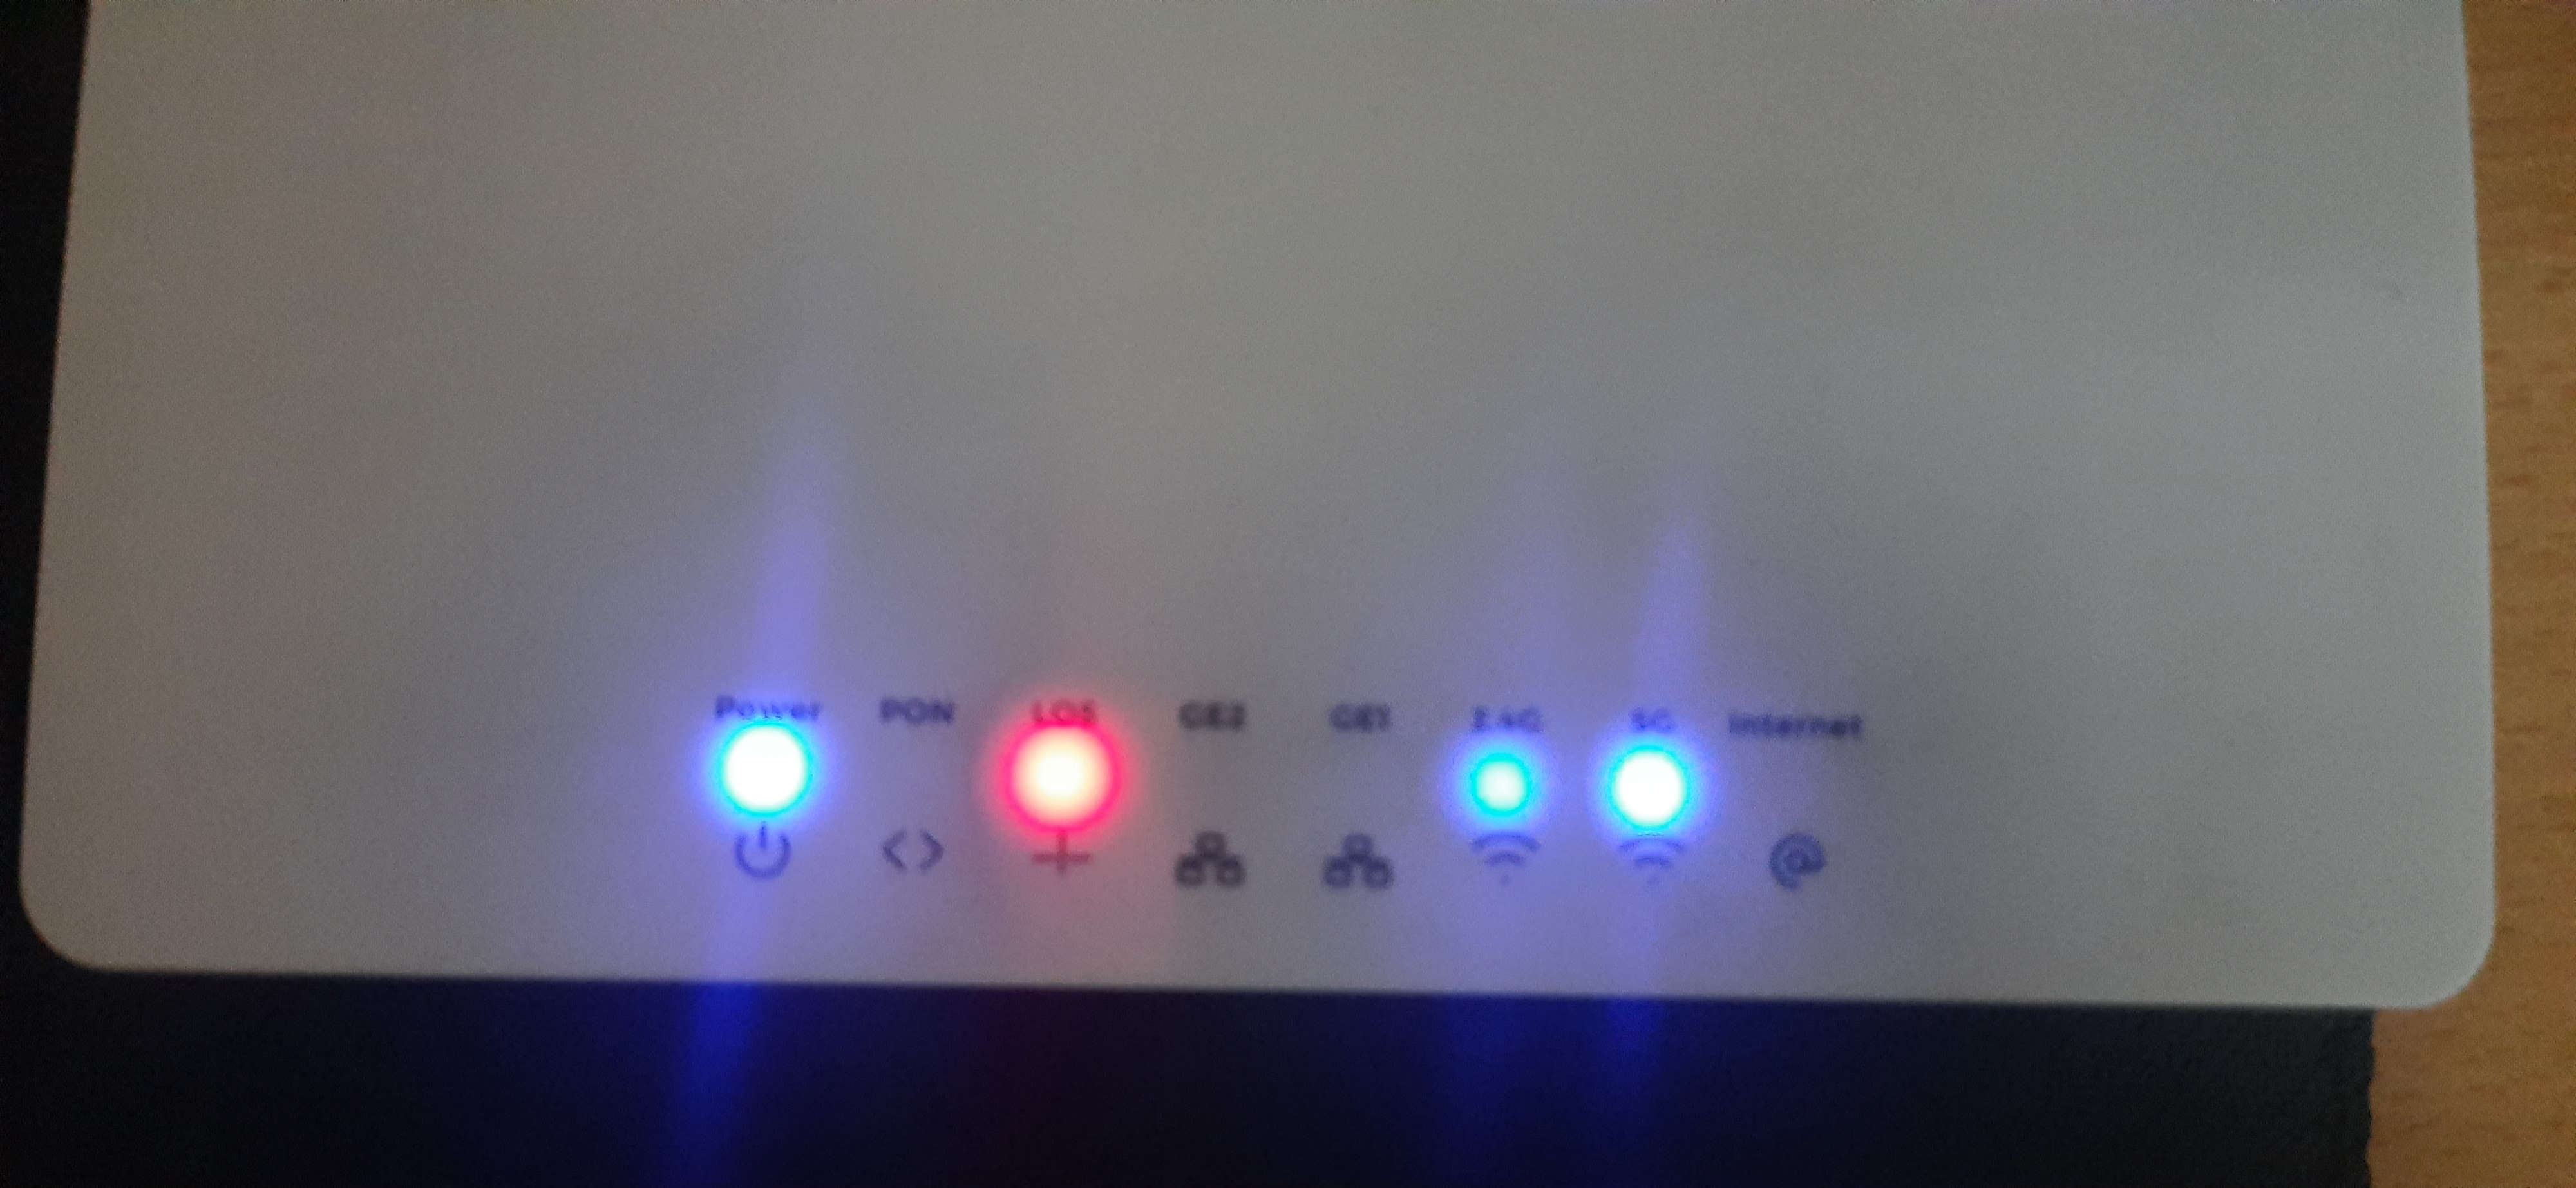LOSConnectionIssue: (966, 659, 1163, 910)
